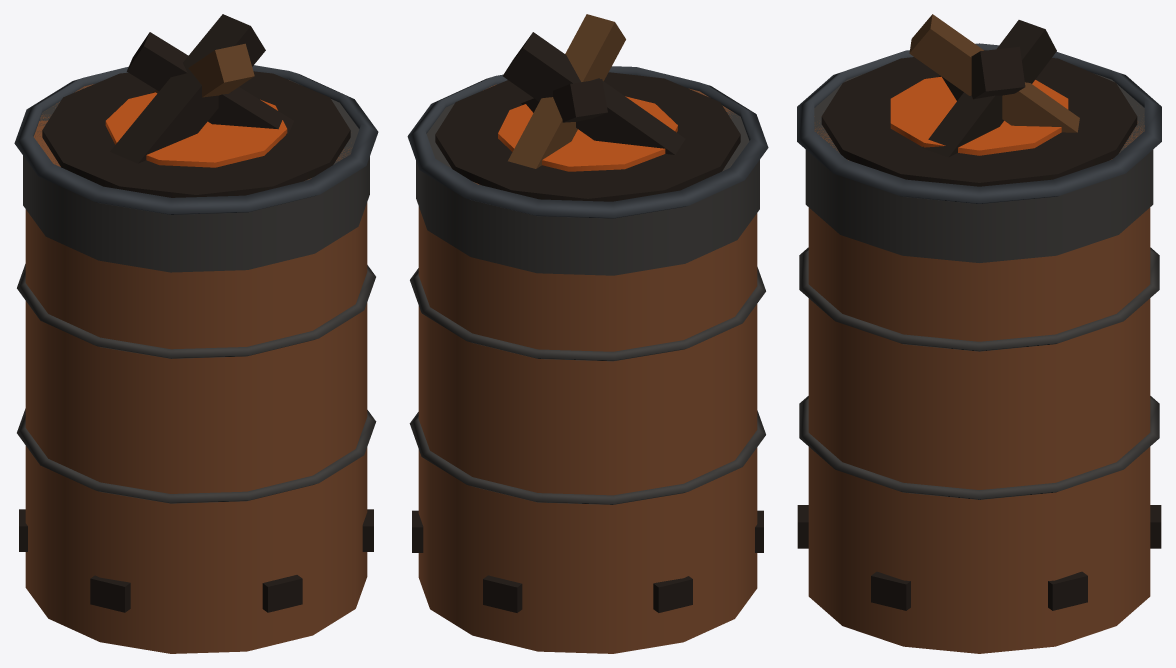
Rendered from burn_barrel.glb.
The picture shows the model from 3 angles, left to right: view 1: azimuth 30°, elevation 25°; view 2: azimuth 150°, elevation 25°; view 3: azimuth 270°, elevation 25°; orthographic projection. The views are drawn at different scales.
Parts seen in each view (by area): view 1: burn_barrel; view 2: burn_barrel; view 3: burn_barrel.
Boxes of the visible parts, left/top/right/bottom form: burn_barrel: left=14, top=14, right=378, bottom=653; burn_barrel: left=407, top=14, right=768, bottom=653; burn_barrel: left=797, top=14, right=1161, bottom=653.
Size of the model in its own units: 0.5714 by 0.95 by 0.5571.
